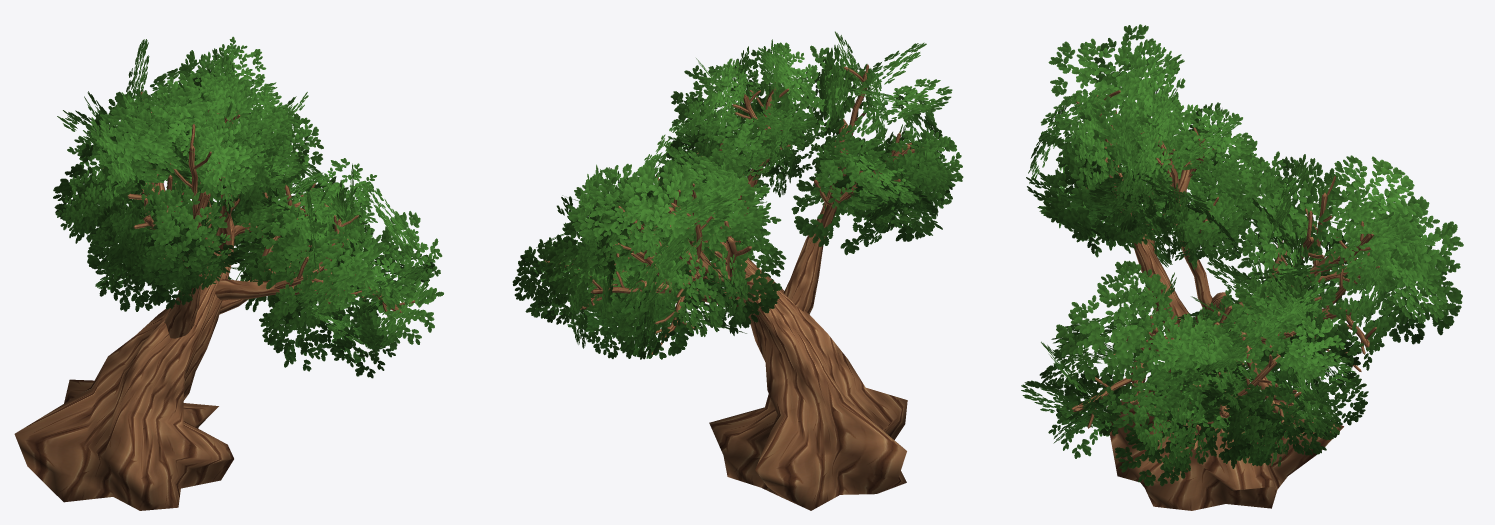
The model's file is ct_oak_1.gltf.
3 renders of one model, left to right at view 1: azimuth 30°, elevation 25°; view 2: azimuth 150°, elevation 25°; view 3: azimuth 270°, elevation 25°, orthographic. The views are drawn at different scales.
Parts seen in each view (by area): view 1: ct_oak_1_leaves_LOD0, ct_oak_1_trunk_LOD0; view 2: ct_oak_1_leaves_LOD0, ct_oak_1_trunk_LOD0; view 3: ct_oak_1_leaves_LOD0, ct_oak_1_trunk_LOD0.
Boxes of the visible parts, box(x1,y1,x2,y2) form: ct_oak_1_leaves_LOD0: box(53, 36, 443, 378); ct_oak_1_trunk_LOD0: box(14, 91, 414, 510); ct_oak_1_leaves_LOD0: box(512, 31, 963, 359); ct_oak_1_trunk_LOD0: box(545, 64, 923, 510); ct_oak_1_leaves_LOD0: box(1021, 24, 1463, 486); ct_oak_1_trunk_LOD0: box(1071, 90, 1379, 510).
Size of what is drawn, in the model's own units: 9.18 by 9.04 by 8.87.
2 materials, 2 textured.
